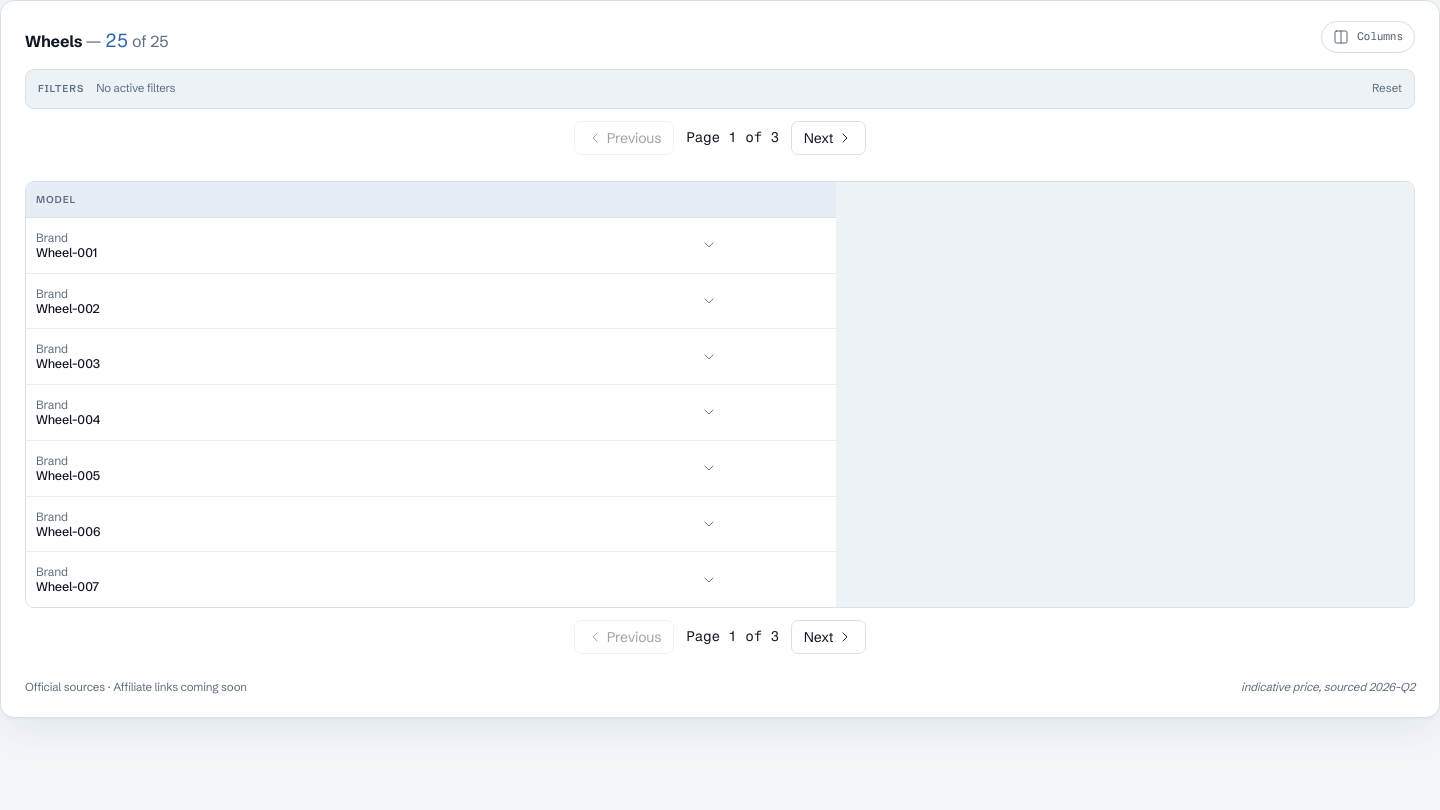
ComparisonTable pagination (EVO-061) › interactive navigation › navigates to next page when Next is clicked
Expected: the navigation bar named "Pagination" shows "Page 1 of 3", [686,129,779,146]
Click the 1st button "Next". click: (829, 138)
box: [791,121,866,155]
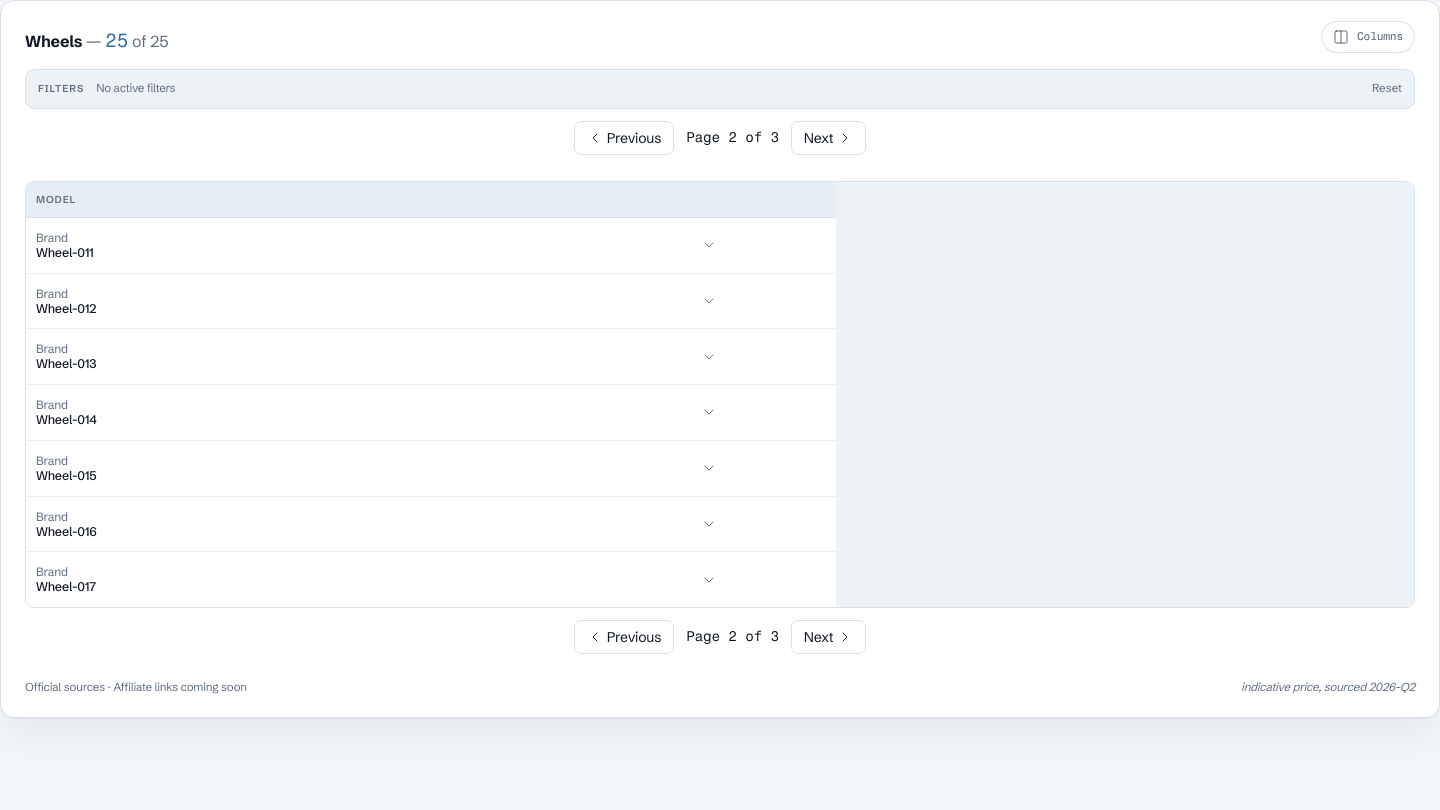
Now the navigation bar named "Pagination" shows "Page 2 of 3", box [686,129,779,146]
